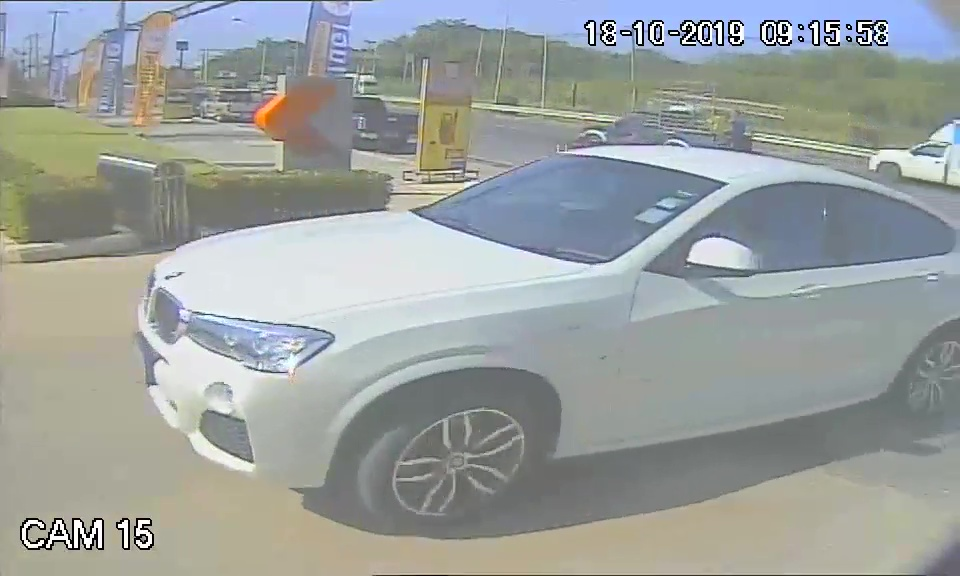sedan: (123, 134, 949, 528)
